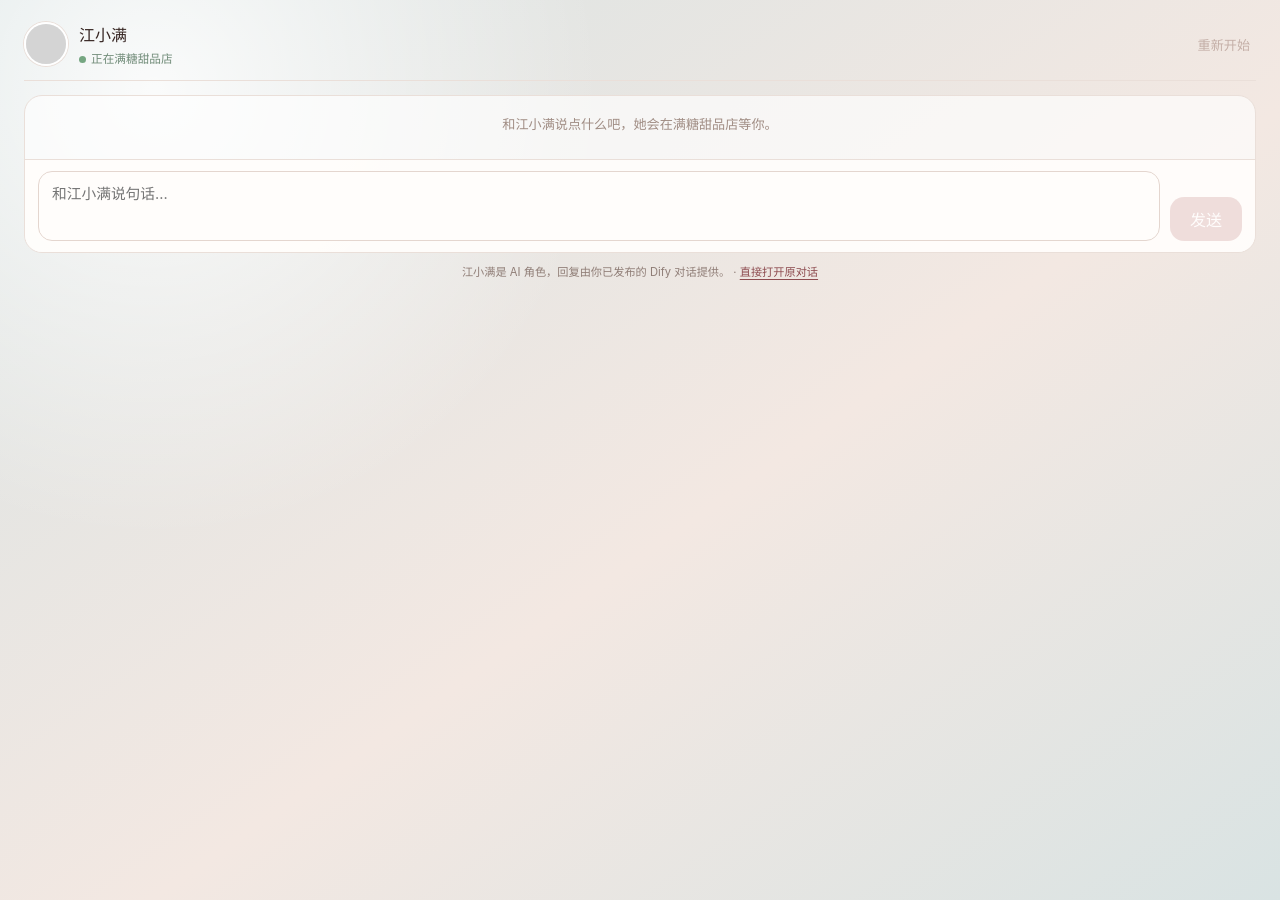
Scenario: ChatPanel › asks for confirmation before resetting the local conversation
Type "你好" into the text box named "和江小满聊天" at (599, 206), box [38,171,1160,241]
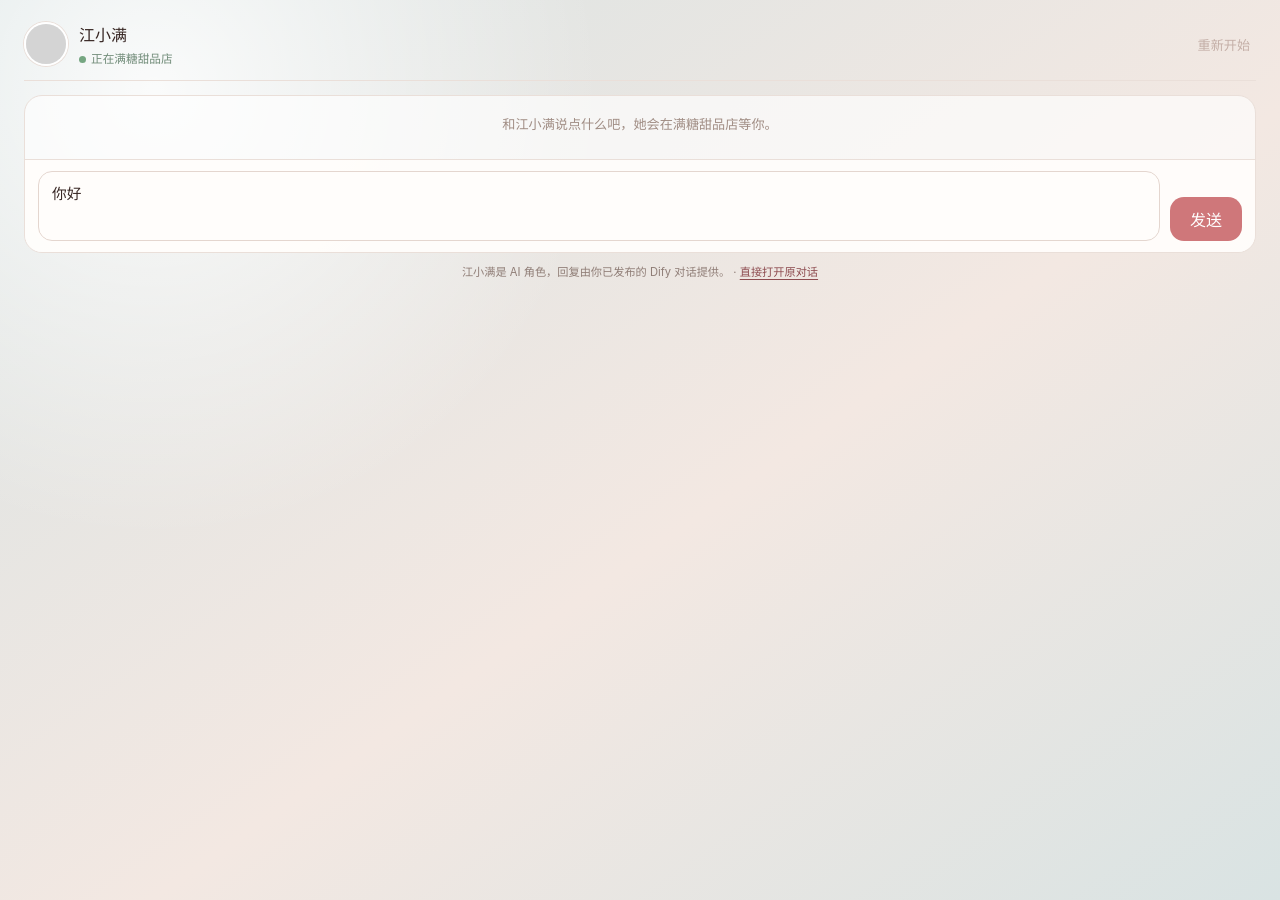
Press Enter in the text box named "和江小满聊天", box [38,171,1160,241]
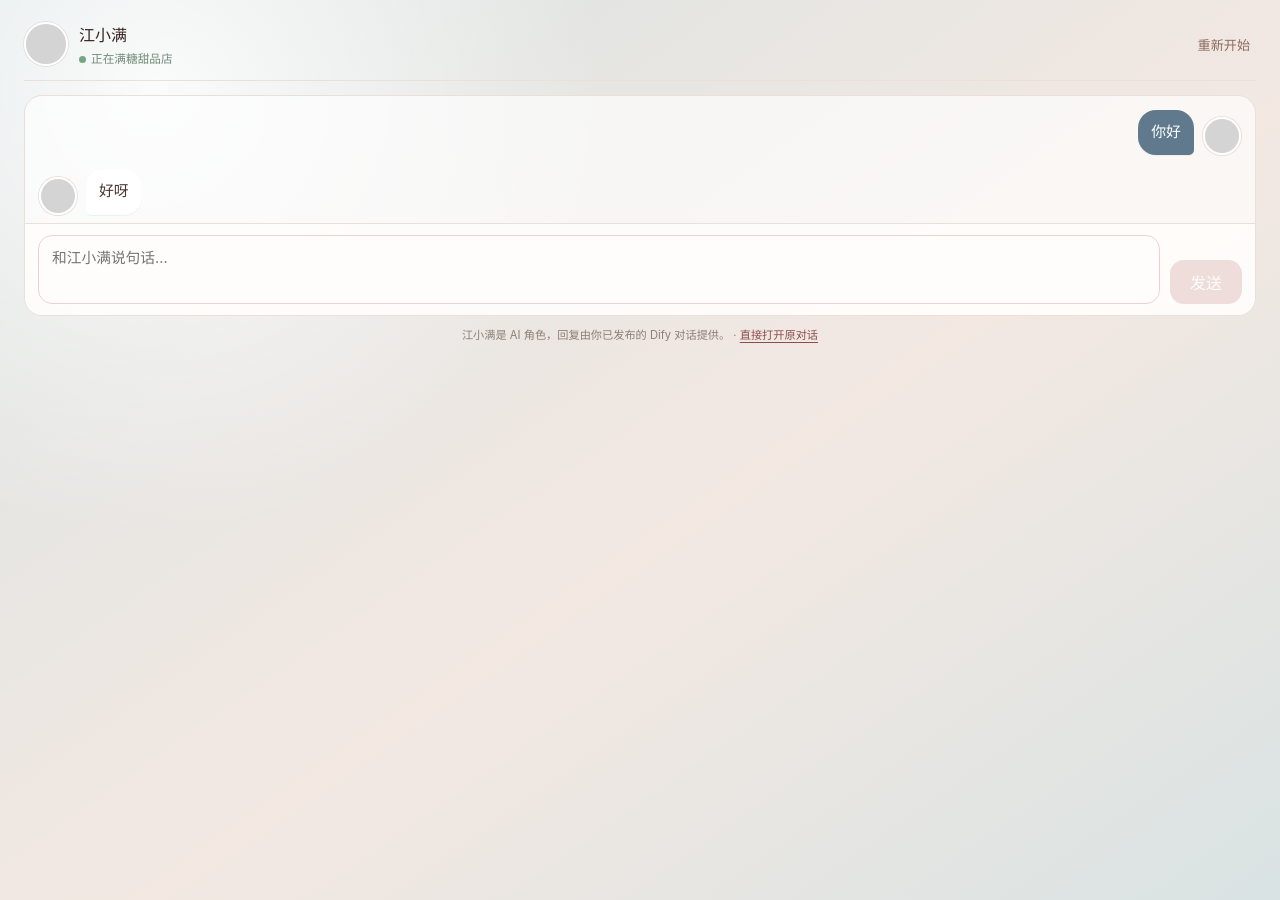
Expected: the text "好呀" is shown, [86,169,142,215]
Click the button "重新开始" at (1224, 44), box [1192,34,1256,54]
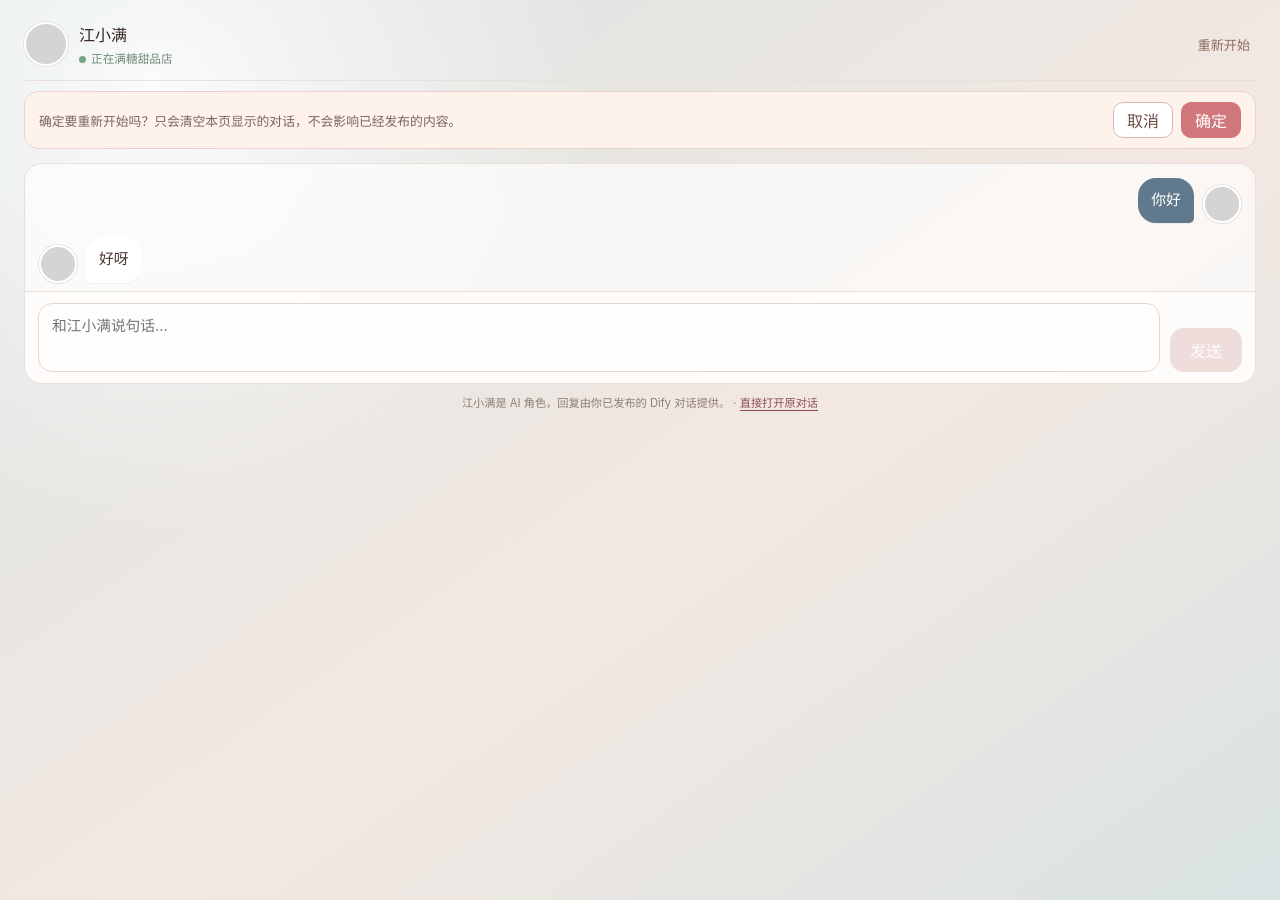
Expected: the text "确定要重新开始吗？只会清空本页显示的对话，不会影响已经发布的内容。" is shown, [39,110,461,130]
Click the button "确定" at (1211, 120), box [1181,102,1241,138]
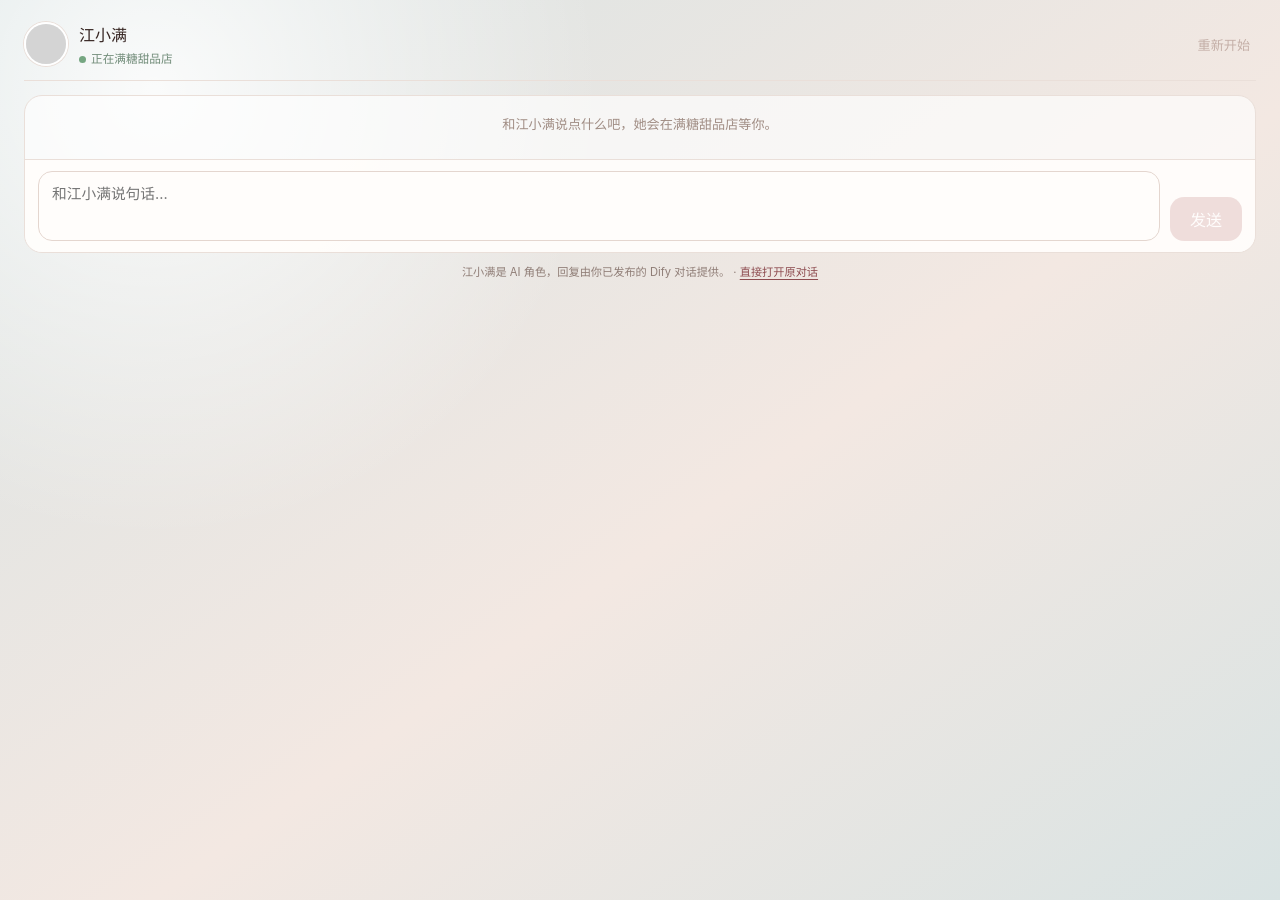
Expected: the text "好呀" is gone
Type "在吗" into the text box named "和江小满聊天" at (599, 206), box [38,171,1160,241]
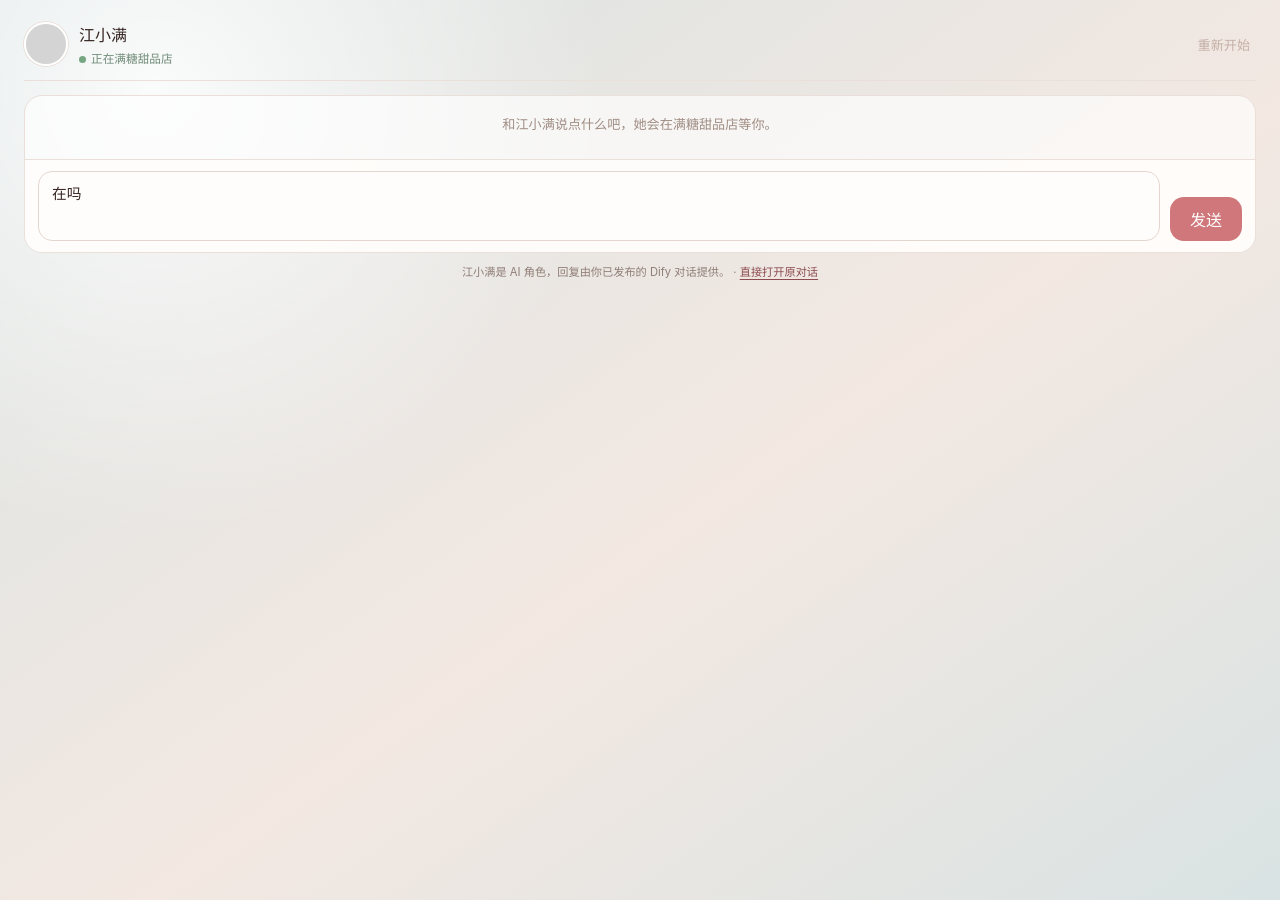
Expected: the button "发送" is enabled, [1170,197,1242,241]
